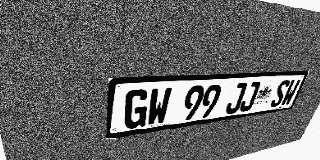9: (180, 85, 206, 121), (198, 84, 223, 118)
G: (123, 88, 150, 130)
J: (224, 82, 248, 114), (238, 81, 261, 112)
S: (269, 80, 291, 108)
W: (146, 87, 172, 126), (280, 79, 301, 106)
